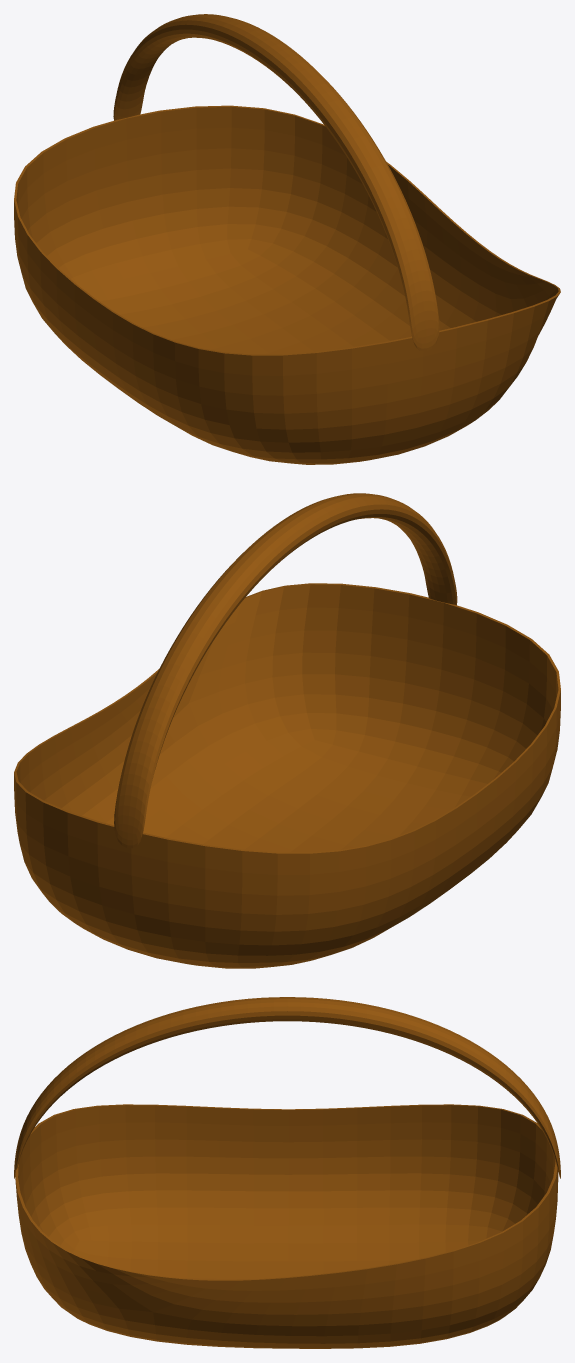
File: keranjang buah.fbx
The picture shows the model from 3 angles, top to bottom: view 1: azimuth 30°, elevation 25°; view 2: azimuth 150°, elevation 25°; view 3: azimuth 270°, elevation 25°; orthographic projection. The views are drawn at different scales.
Parts seen in each view (by area): view 1: Cube, Circle; view 2: Cube, Circle; view 3: Cube, Circle.
Boxes of the visible parts, x1=… form: Cube: x1=14, y1=105, x2=560, y2=464; Circle: x1=113, y1=14, x2=439, y2=351; Cube: x1=14, y1=583, x2=560, y2=968; Circle: x1=114, y1=493, x2=457, y2=848; Cube: x1=15, y1=1104, x2=558, y2=1348; Circle: x1=14, y1=997, x2=560, y2=1178.
Size of the model in its own units: 202 by 186 by 292.
